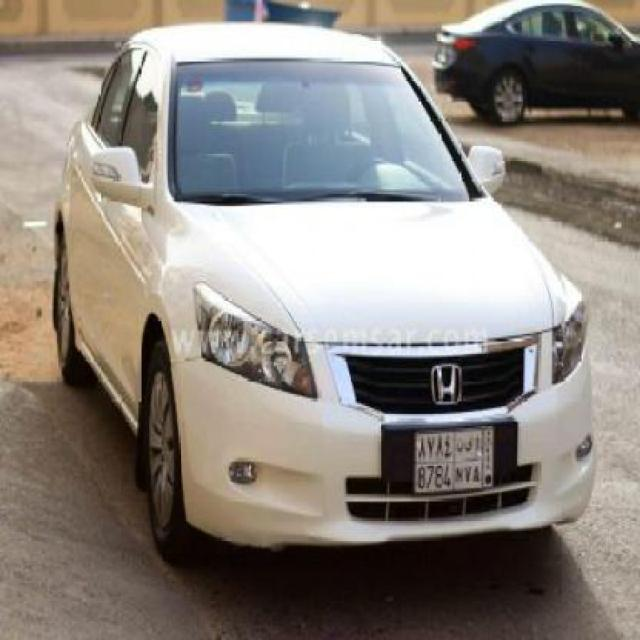license_plate: (413, 424, 496, 496)
